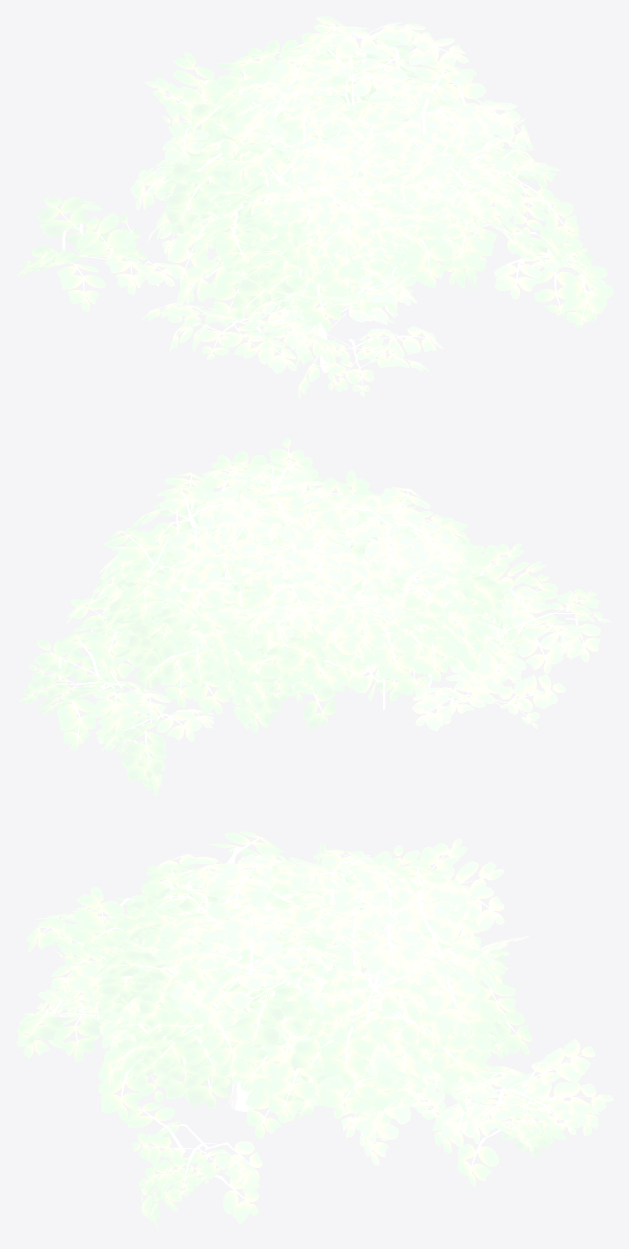
3 views of the same model, one above another, from view 1: azimuth 30°, elevation 25°; view 2: azimuth 150°, elevation 25°; view 3: azimuth 270°, elevation 25° (orthographic). The views are drawn at different scales.
Parts seen in each view (by area): view 1: SM_BM_Medium_Bush_01_B_LOD0; view 2: SM_BM_Medium_Bush_01_B_LOD0; view 3: SM_BM_Medium_Bush_01_B_LOD0.
Part boxes in pixels (<box>): SM_BM_Medium_Bush_01_B_LOD0: <box>17,15,613,400</box>; SM_BM_Medium_Bush_01_B_LOD0: <box>18,438,611,795</box>; SM_BM_Medium_Bush_01_B_LOD0: <box>16,830,613,1229</box>.
Bounding box in the file's own units: 2.24 × 1.1 × 2.06.
